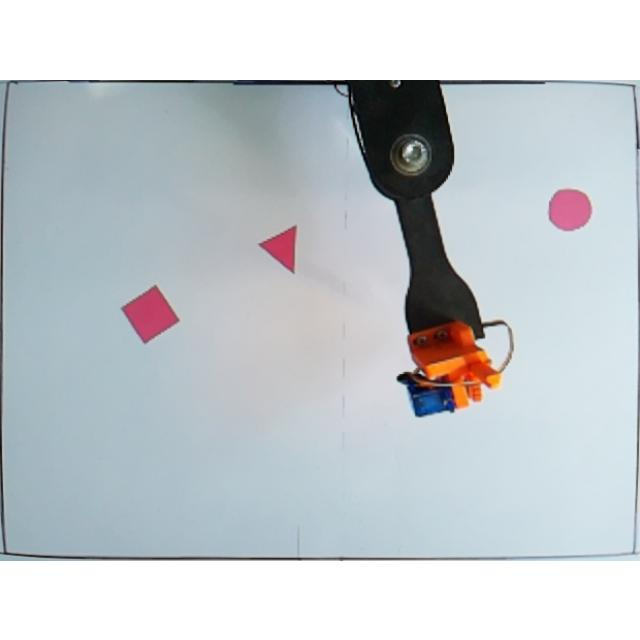pinkCircle: (546, 185, 594, 231)
pinkSquare: (120, 284, 180, 344)
pinkTriangle: (256, 222, 300, 276)
